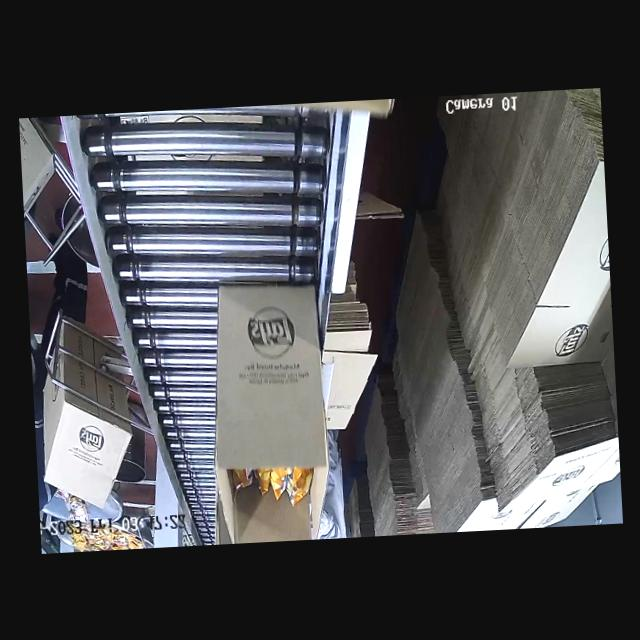cheese: (228, 449, 326, 505)
